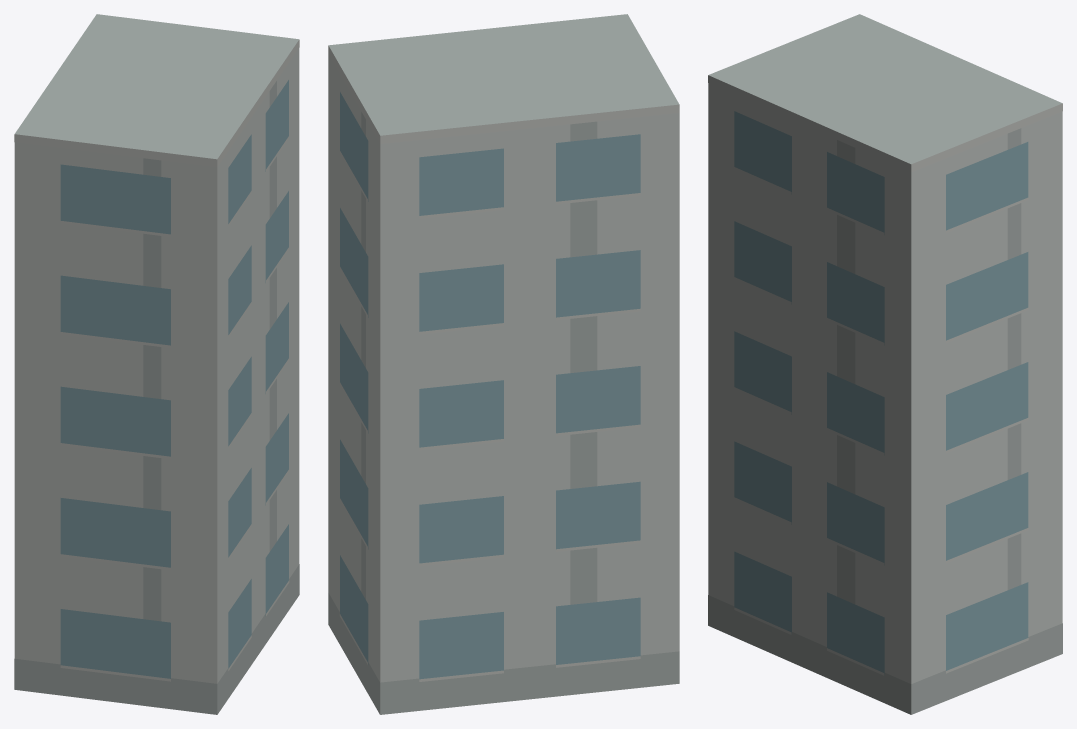
Rendered from survey-upis-32795787.glb.
3 renders of one model, left to right at view 1: azimuth 30°, elevation 25°; view 2: azimuth 150°, elevation 25°; view 3: azimuth 270°, elevation 25°, orthographic. The views are drawn at different scales.
Parts seen in each view (by area): view 1: survey-upis-32795787.tmp; view 2: survey-upis-32795787.tmp; view 3: survey-upis-32795787.tmp.
Boxes of the visible parts, <box> form: survey-upis-32795787.tmp: <box>14,14,299,714</box>; survey-upis-32795787.tmp: <box>328,14,679,714</box>; survey-upis-32795787.tmp: <box>708,14,1062,714</box>.
Bounding box in the file's own units: 9.79 × 16.7 × 9.76.
